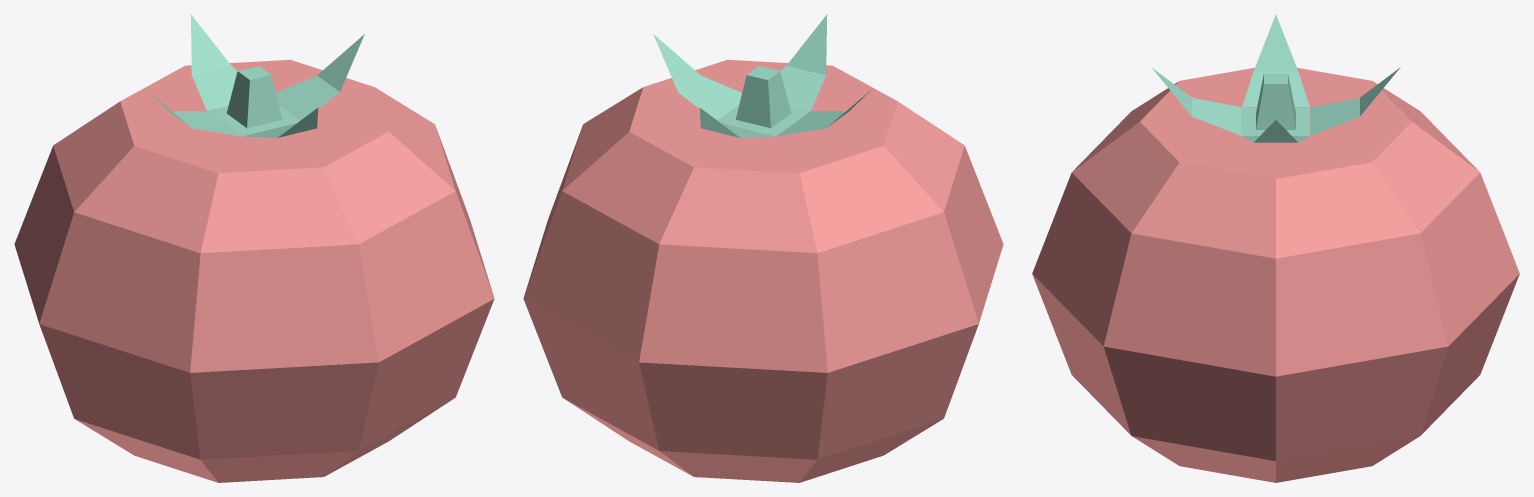
The model's file is tomato.glb.
3 views of the same model, side by side, from view 1: azimuth 30°, elevation 25°; view 2: azimuth 150°, elevation 25°; view 3: azimuth 270°, elevation 25° (orthographic).
Visible parts, largest first — view 1: tomato; view 2: tomato; view 3: tomato.
Boxes of the visible parts, x1,y1,x2,y2 form: tomato: (14,14,494,482); tomato: (523,14,1003,482); tomato: (1032,14,1519,482).
Size of the model in its own units: 0.1697 by 0.1376 by 0.1697.
